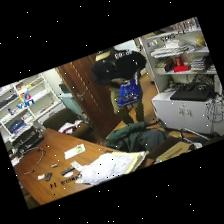person: (91, 48, 146, 124), (98, 122, 170, 152)
